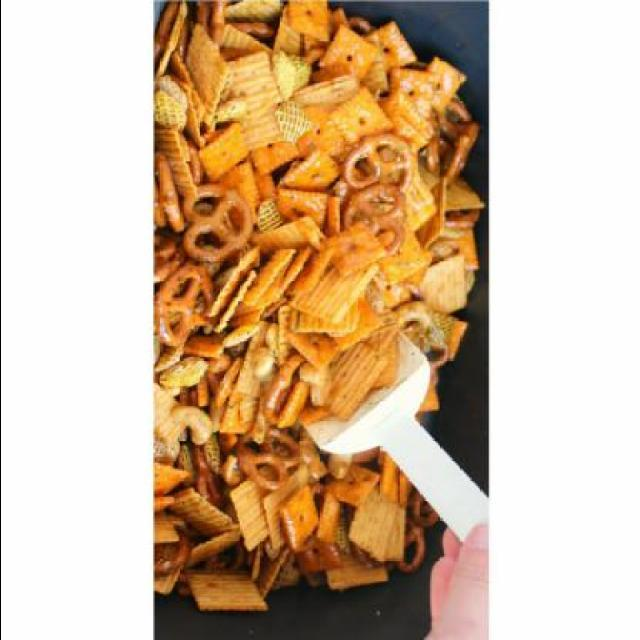Salatini packaged: (157, 14, 455, 608)
